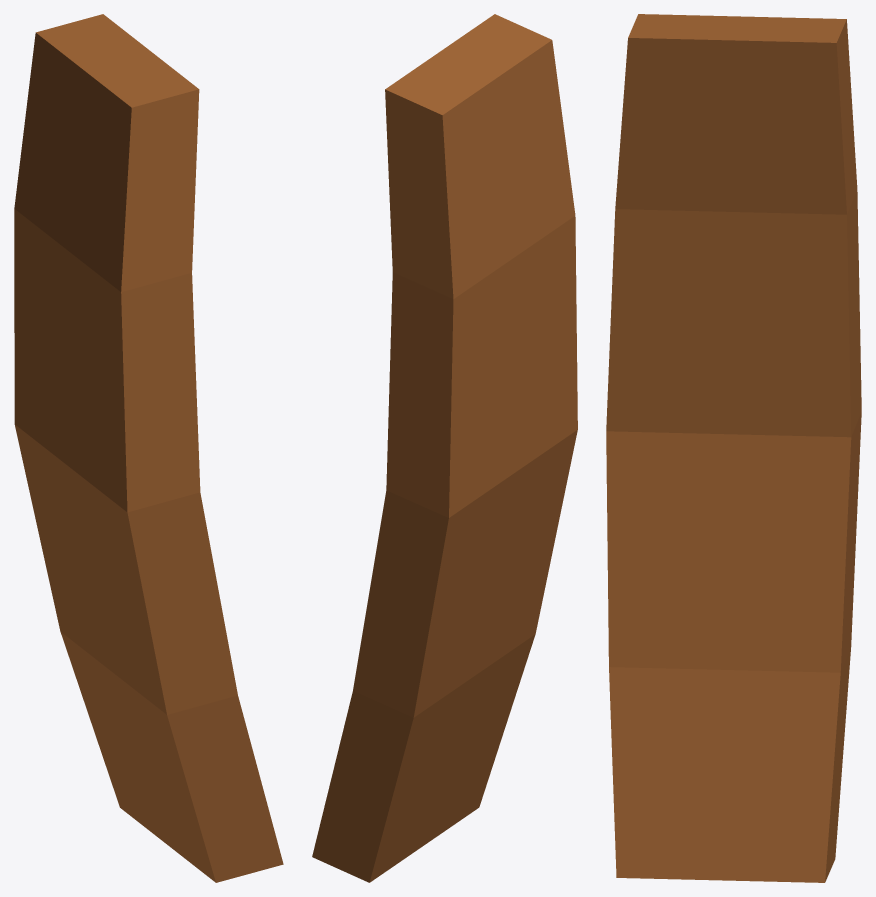
Rendered from barrel-019.glb.
The picture shows the model from 3 angles, left to right: view 1: azimuth 30°, elevation 25°; view 2: azimuth 150°, elevation 25°; view 3: azimuth 270°, elevation 25°; orthographic projection.
Parts seen in each view (by area): view 1: barrel.019; view 2: barrel.019; view 3: barrel.019.
Part boxes in pixels (x1=…): barrel.019: x1=14, y1=14, x2=283, y2=882; barrel.019: x1=312, y1=14, x2=577, y2=882; barrel.019: x1=606, y1=14, x2=861, y2=882.
Size of the model in its own units: 1.09 by 5.07 by 1.45.
